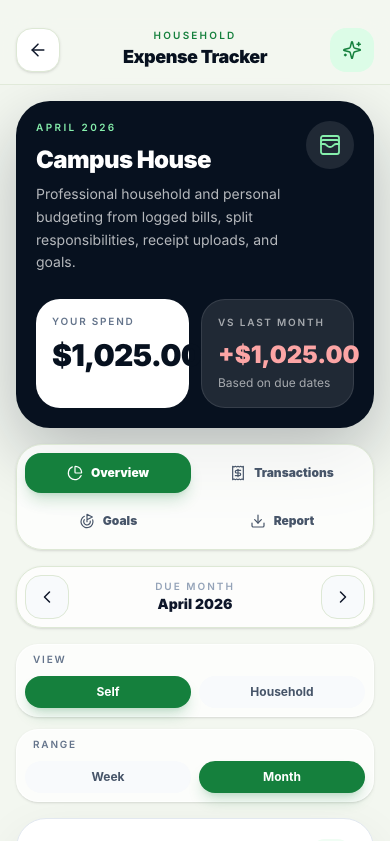
Test: HouseholdExpensePage › renders self and household summaries with scope switching
What coordinates should you click on to do the following:
click the button "Household"
I would click on:
 (282, 692)
Its box is [199, 676, 365, 708].
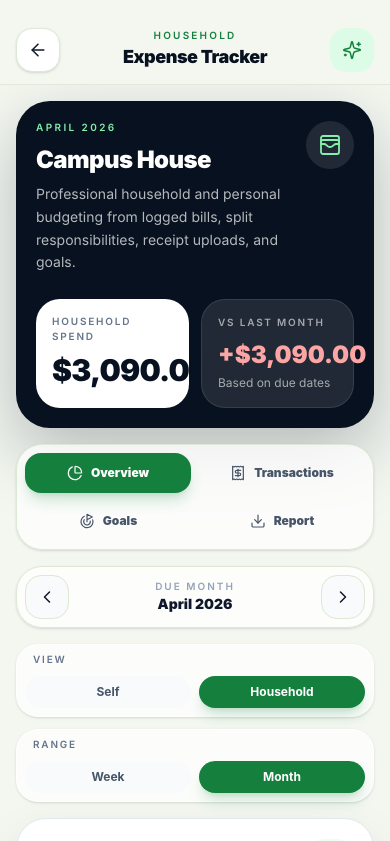
Result: the text "$3,090.00" is shown at [52, 353, 173, 389]
